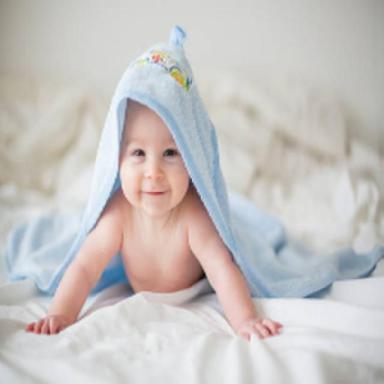normal skin: (25, 104, 282, 339)
